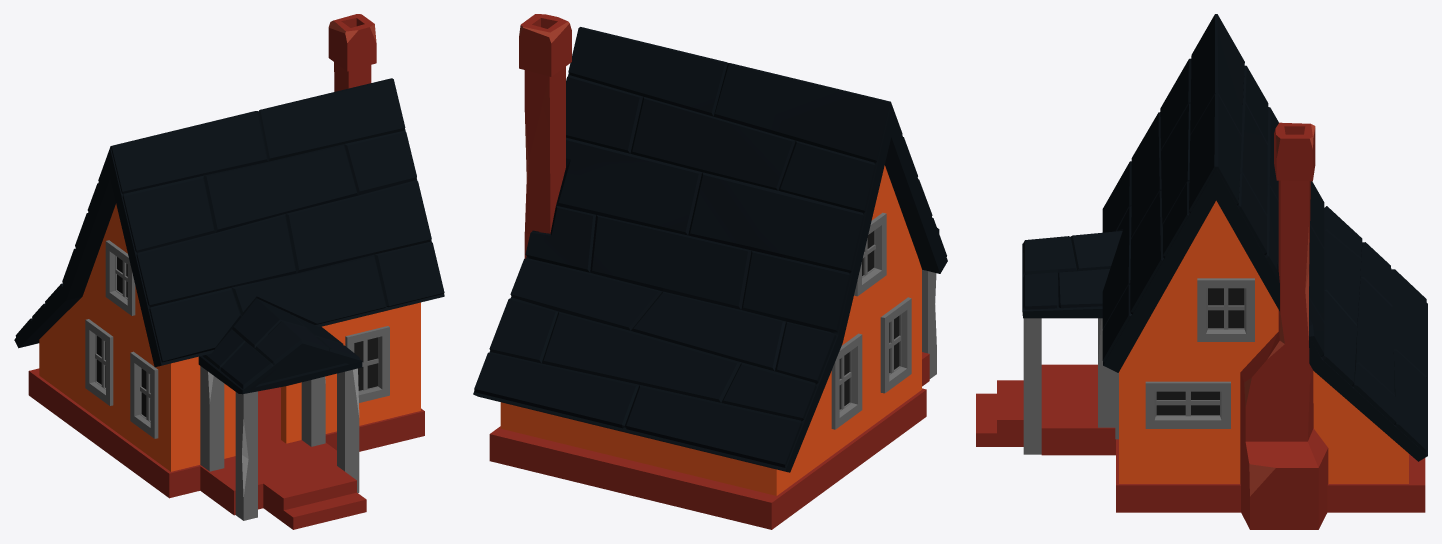
The model's file is House_4.001_1.fbx.
The picture shows the model from 3 angles, left to right: view 1: azimuth 30°, elevation 25°; view 2: azimuth 150°, elevation 25°; view 3: azimuth 270°, elevation 25°; orthographic projection. The views are drawn at different scales.
Parts seen in each view (by area): view 1: House_4.001_1; view 2: House_4.001_1; view 3: House_4.001_1.
Boxes of the visible parts, box(x1,y1,x2,y2) form: House_4.001_1: box(14, 14, 444, 529); House_4.001_1: box(473, 14, 947, 529); House_4.001_1: box(976, 14, 1427, 529).
Size of the model in its own units: 191 by 210 by 222.
